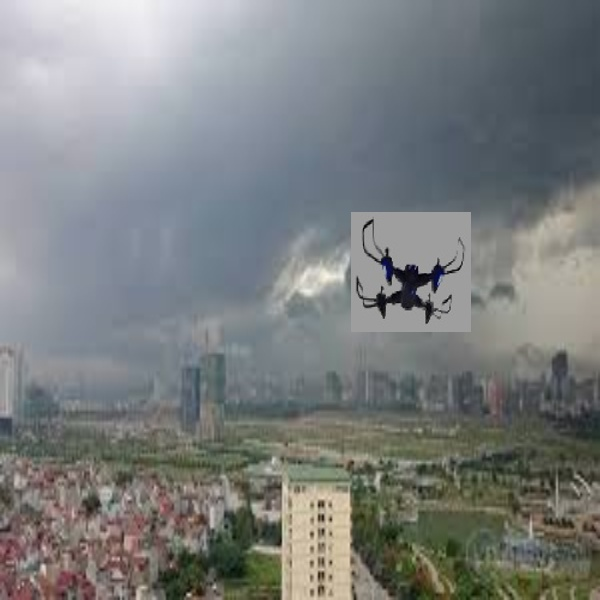drone: (352, 217, 473, 331)
